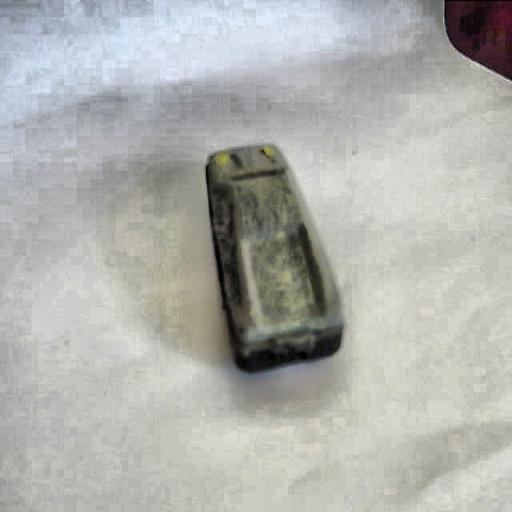normal_car: (200, 140, 346, 374)
